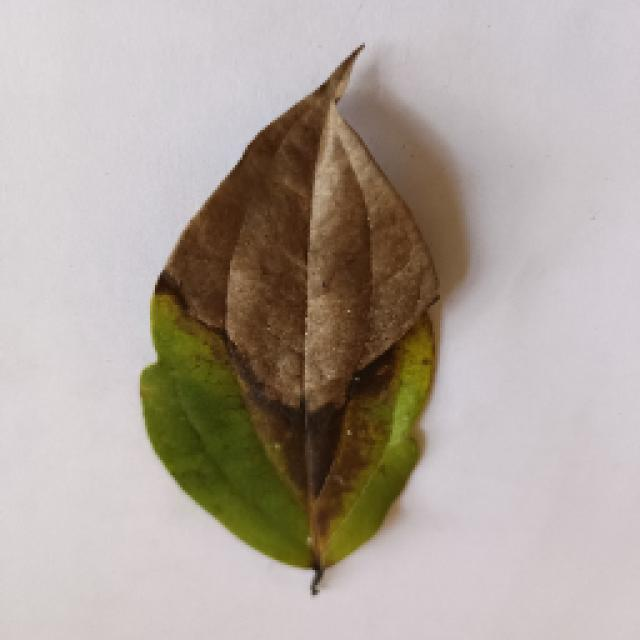footrot: (120, 45, 452, 585)
